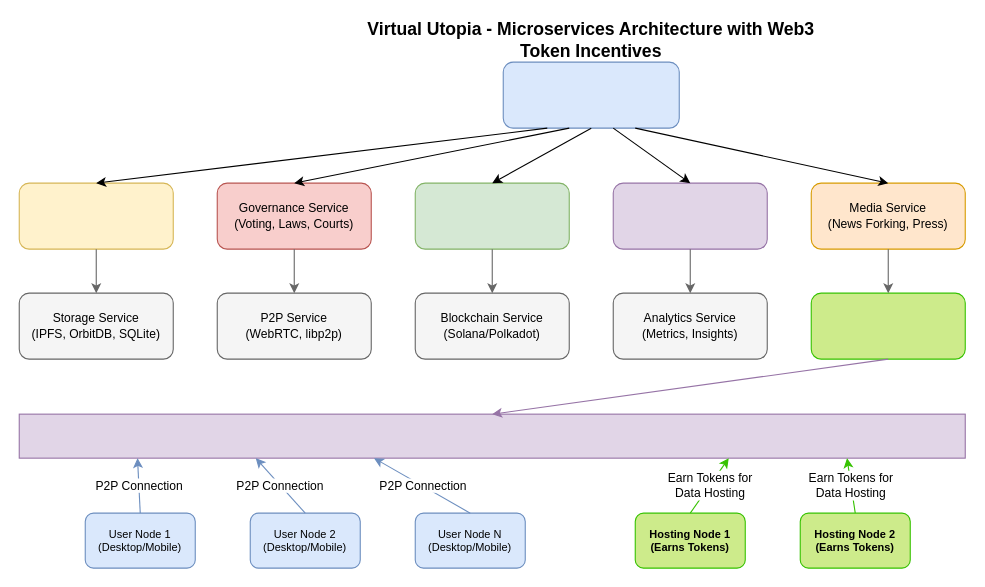
Some shapes in this 985 by 587 pixel diagram are drawn without their labels. The shapes that lost their labels are listed below. From the top down, each one's centre as x and y in pixels, then its label:
the point at 590,94: API Gateway (Load Balancer + Auth)
the point at 95,215: Identity Service (Self-Sovereign ID, DID)
the point at 491,215: Economic Service (Currency, Markets, Labor)
the point at 689,215: Social Service (News, Arguments, Forums)
the point at 887,325: Token Incentive Engine (Rewards, Hosting Fees)
the point at 491,435: Distributed Data Layer
